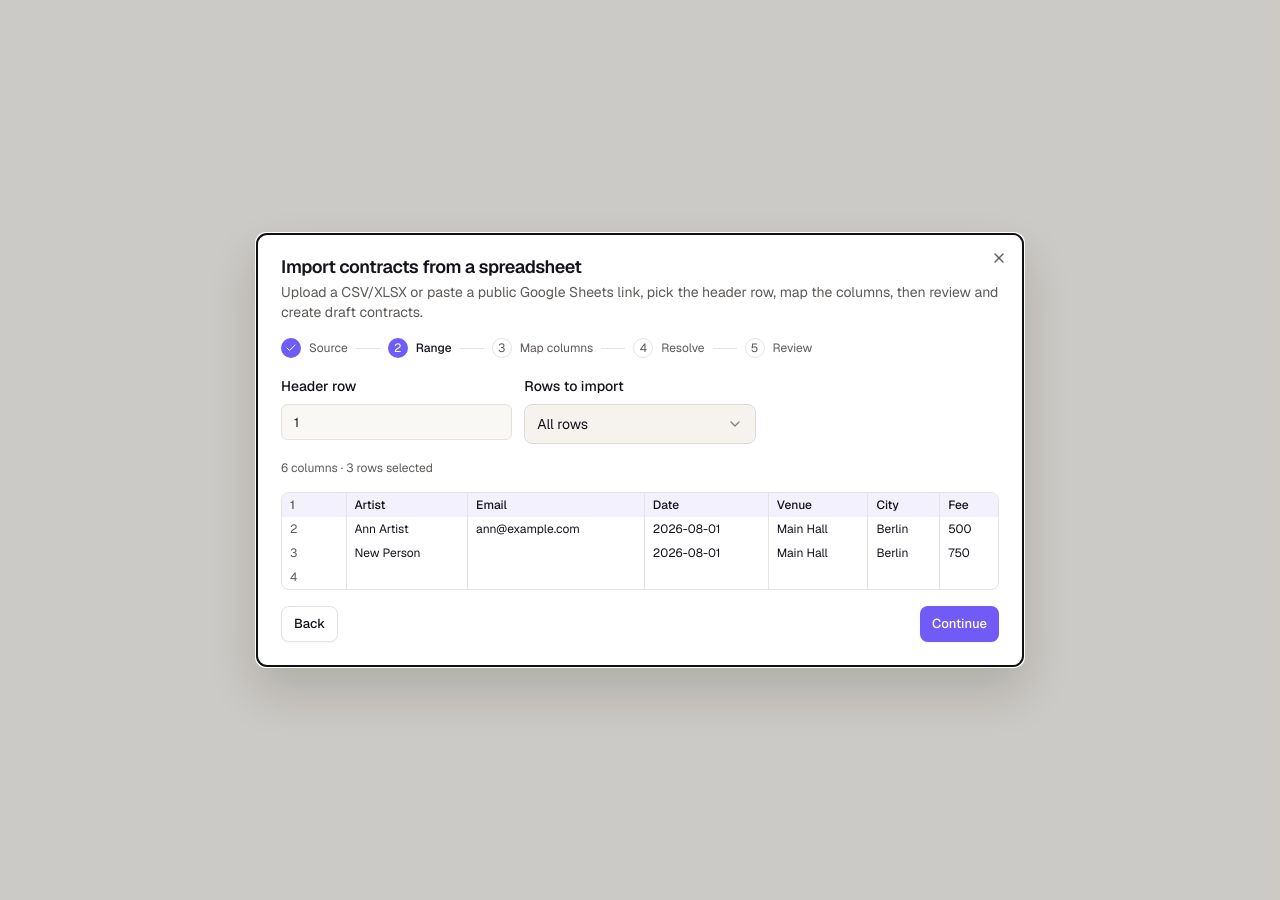
Test: HireOrderImportDialog › Resolve step lists only the unmatched artist row and links it to an existing artist
Earlier steps of the test are not shown.
Expected: the number field labelled "Header row" is shown, [281,404,512,440]
Click the button "Continue" at [960, 624], box [920,606,999,642]
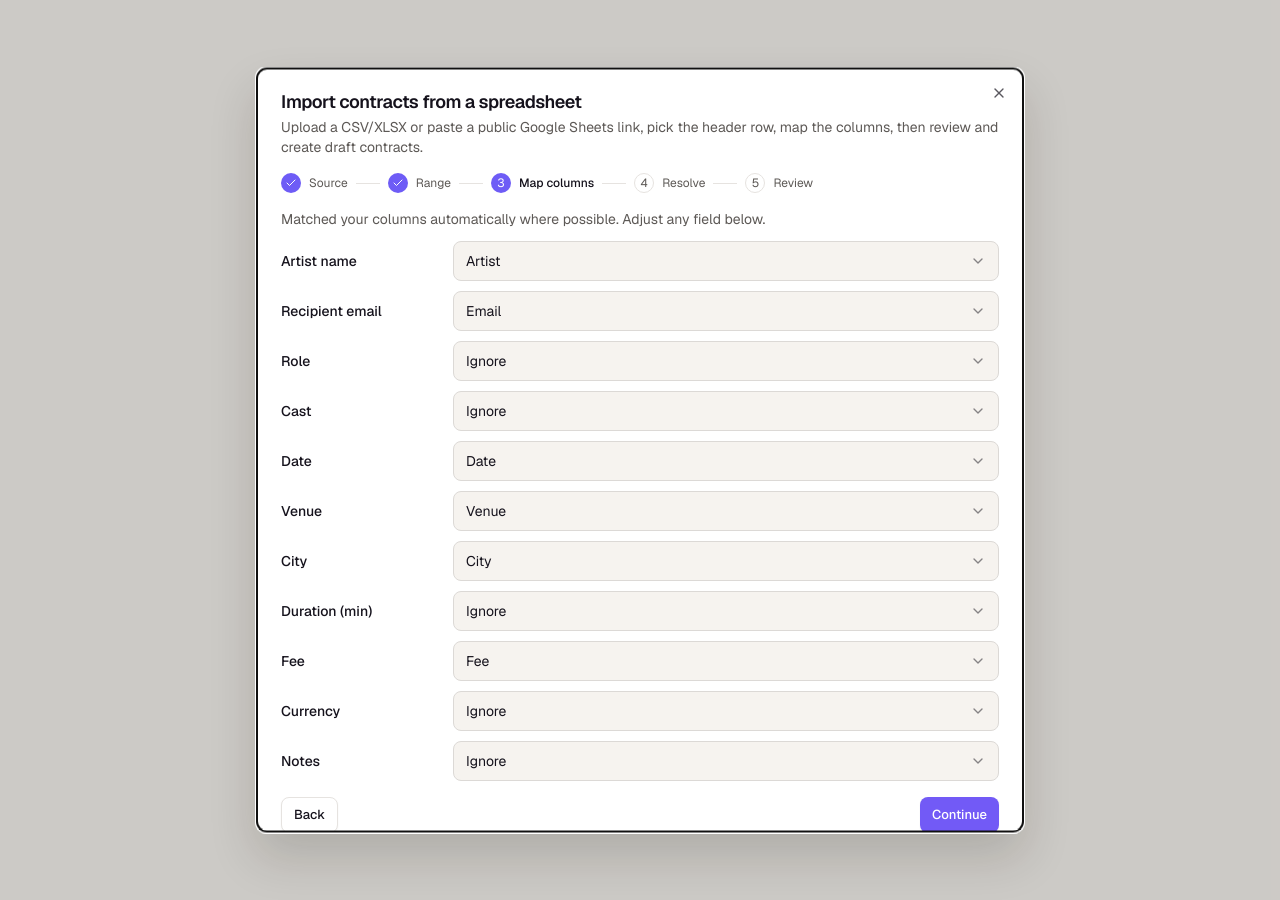
Expected: the text "Matched your columns" is shown, [281,210,765,228]
Click the button "Continue" at [960, 814], box [920,796,999,832]
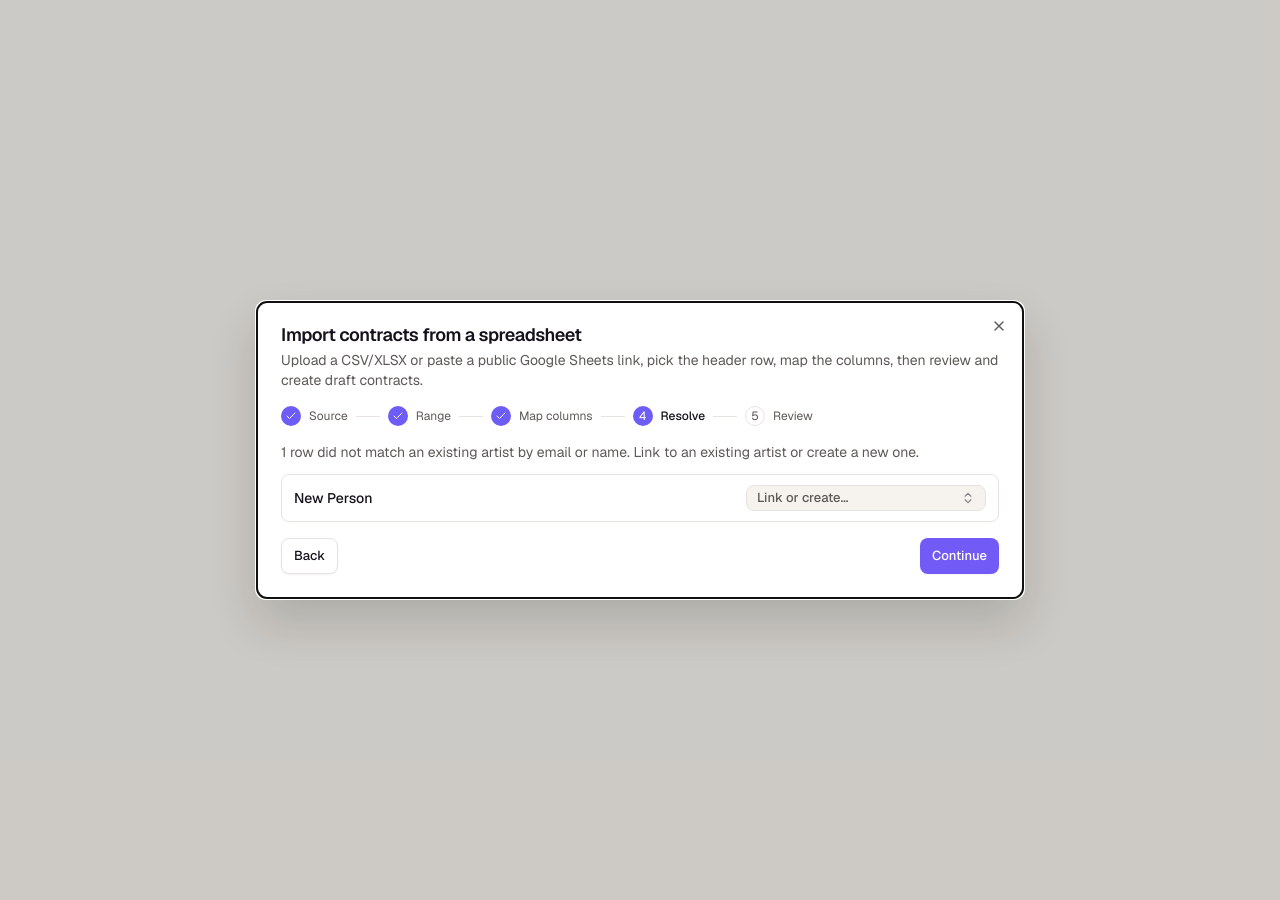
Expected: the text "Ann Artist" is not shown
Expected: the text "New Person" is shown, [294,488,372,508]
Click the dropdown named "link or create artist for new person" at [866, 498], box [746,485,986,511]
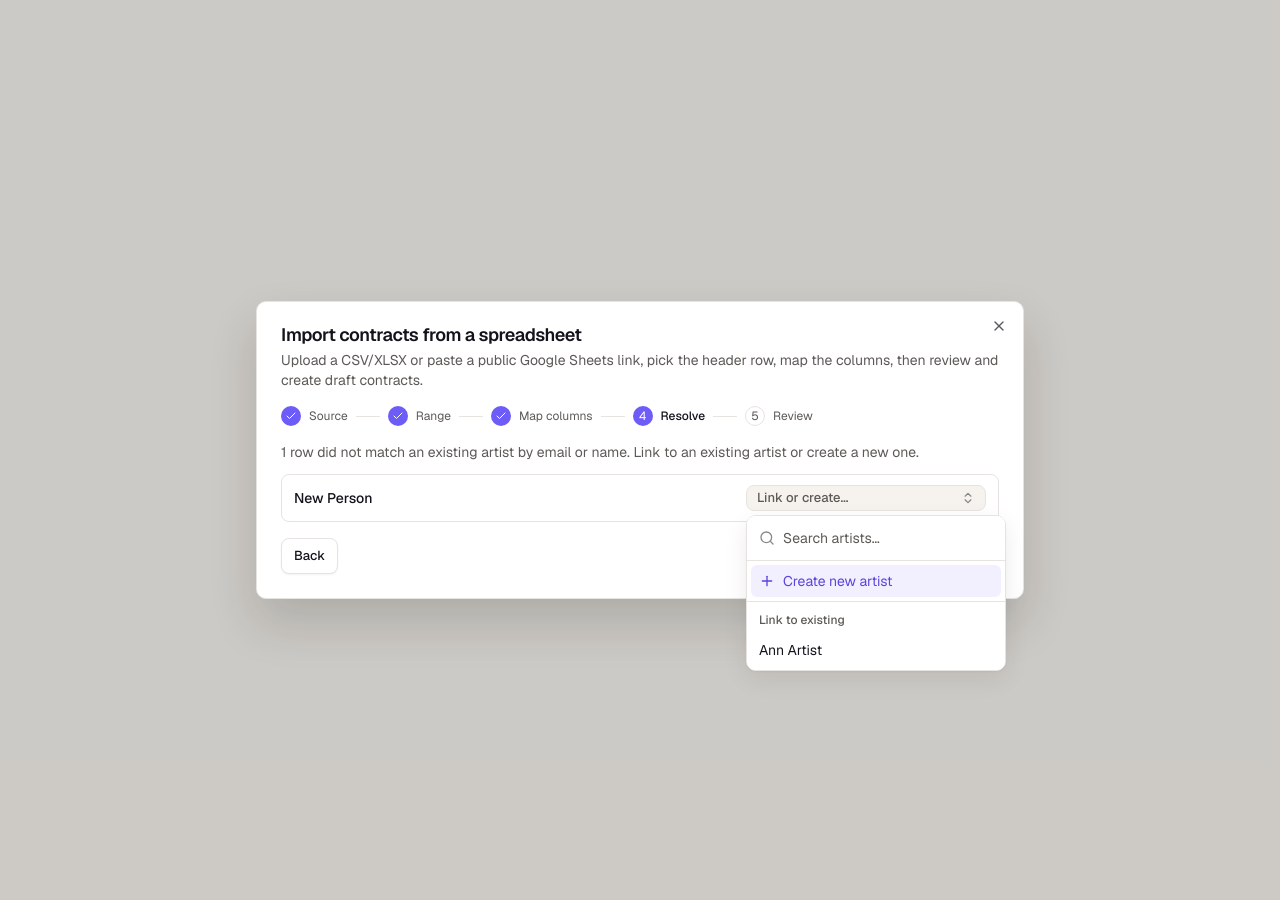
Click the option "Ann Artist" at [791, 650], box [759,641,822,659]
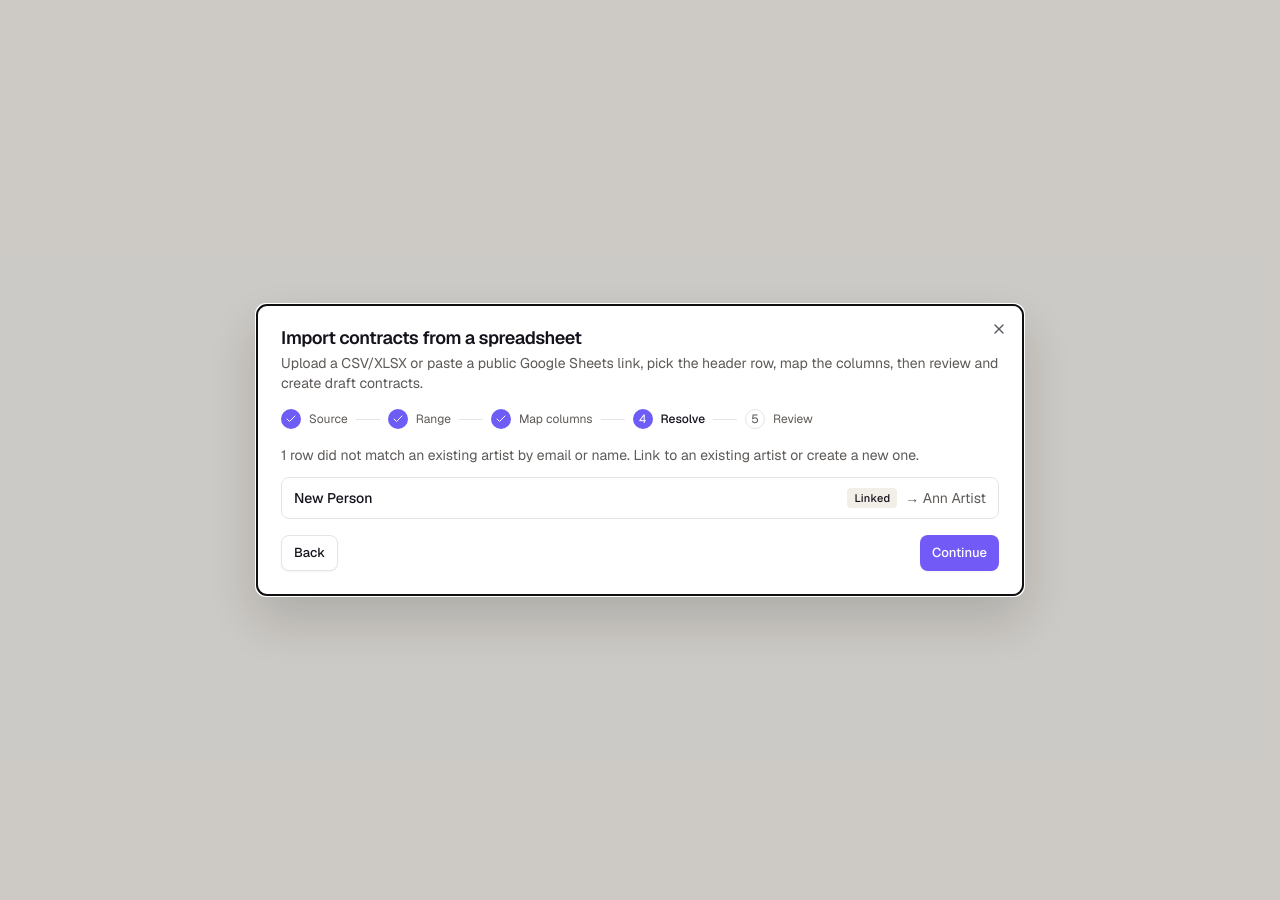
Expected: the text "Linked" is shown, [848,488,897,508]
